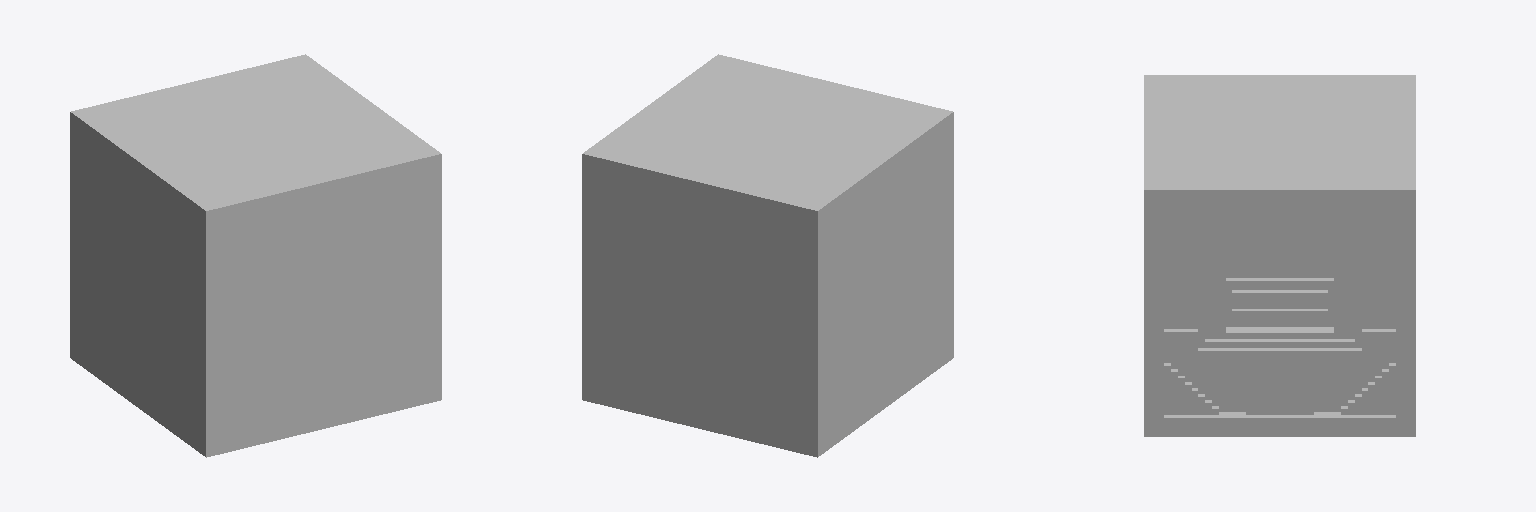
Rendered from red.obj.
The picture shows the model from 3 angles: view 1: azimuth 30°, elevation 25°; view 2: azimuth 150°, elevation 25°; view 3: azimuth 270°, elevation 25°; orthographic projection.
Parts seen in each view (by area): view 1: object 1; view 2: object 1; view 3: object 1.
Part boxes in pixels (x1,y1,x2,y2): object 1: (70, 54, 441, 457); object 1: (582, 54, 953, 457); object 1: (1144, 75, 1415, 436).
Bounding box in the file's own units: 4 × 4 × 4.